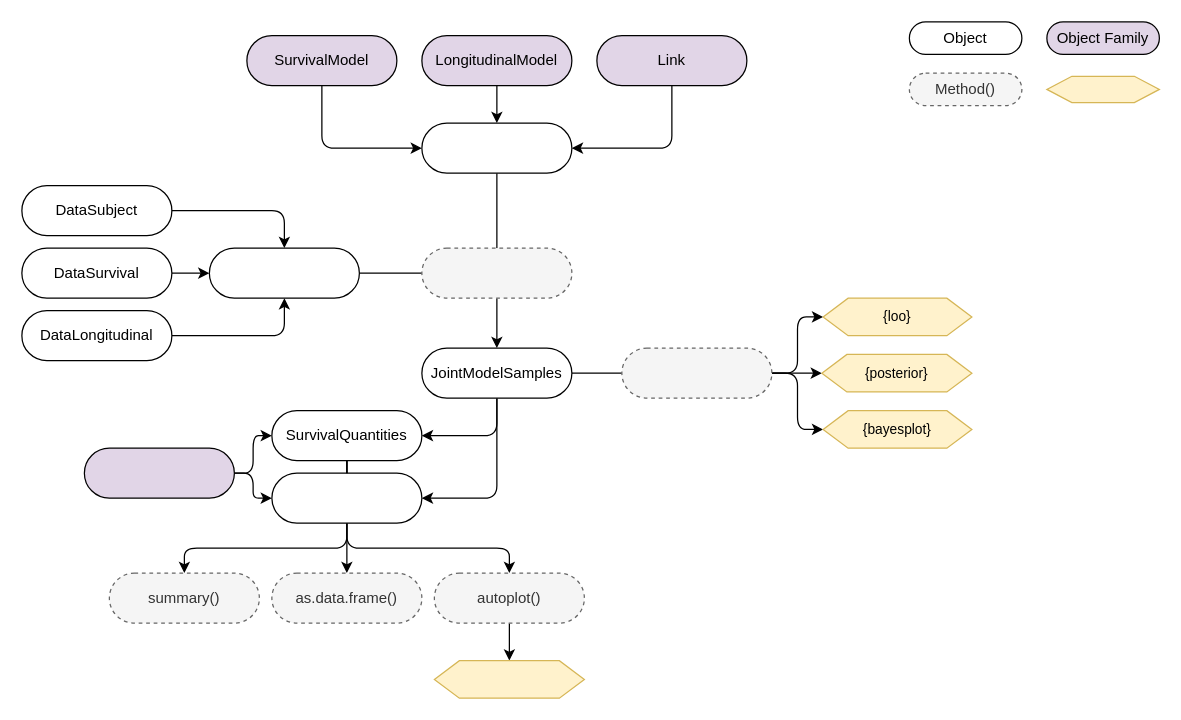
The diagram is 1181 pixels wide and 720 high, and some of its shapes have lost their labels. The centre of each missing label's shape, as x and y in pixels:
"as.CmdStanMCMC()" goes at (x=696, y=372).
"DataJoint" goes at (x=283, y=272).
"Grid" goes at (x=158, y=472).
"JointModel" goes at (x=496, y=147).
"LongitudinalQuantities" goes at (x=346, y=497).
"sampleStanModel()" goes at (x=496, y=272).
"{ggplot2}" goes at (x=508, y=678).
"{Package}" goes at (x=1102, y=88).
